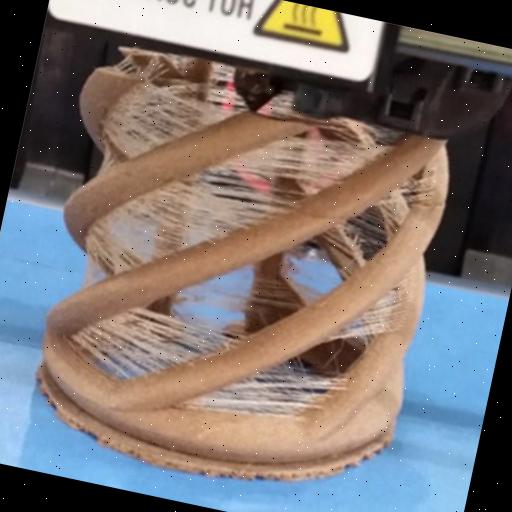stringing: (74, 151, 300, 322), (210, 105, 395, 210), (60, 290, 238, 398), (182, 334, 350, 438), (95, 66, 227, 178), (312, 252, 420, 364), (368, 154, 450, 230)
